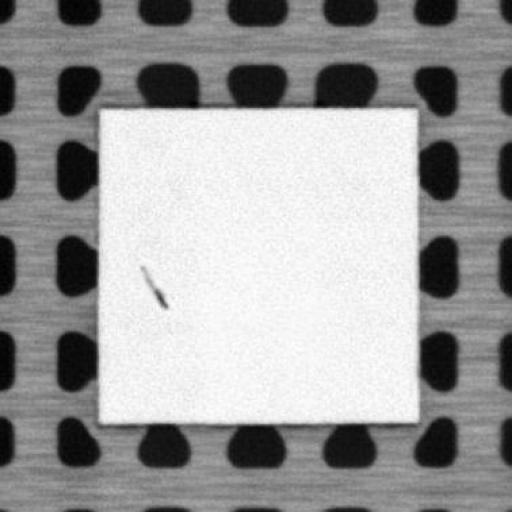DIE_INK: (135, 264, 168, 310)
